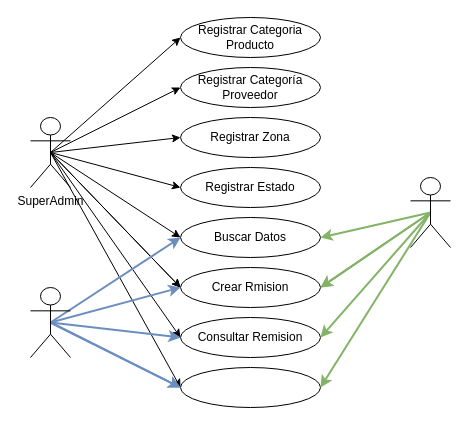
Image size: 468x425. Some labels were removed from this diagram. Each missing label, with the centre of its shape:
"Admin" goes at pixel 50 322.
"Confirmar Remicion" goes at pixel 250 387.
"Ventas" goes at pixel 430 212.
